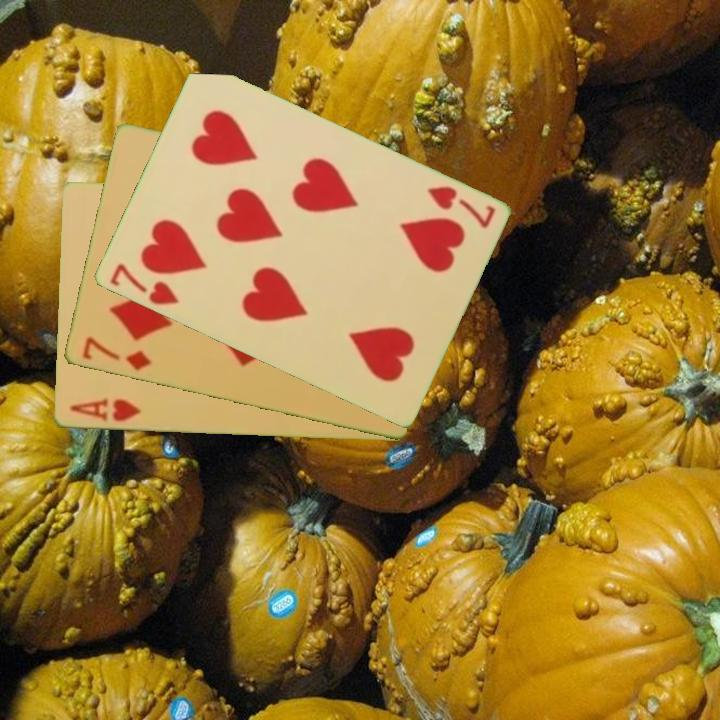7d: (78, 333, 154, 374)
7h: (423, 182, 498, 232), (106, 260, 181, 309)
Ah: (65, 395, 144, 425)
